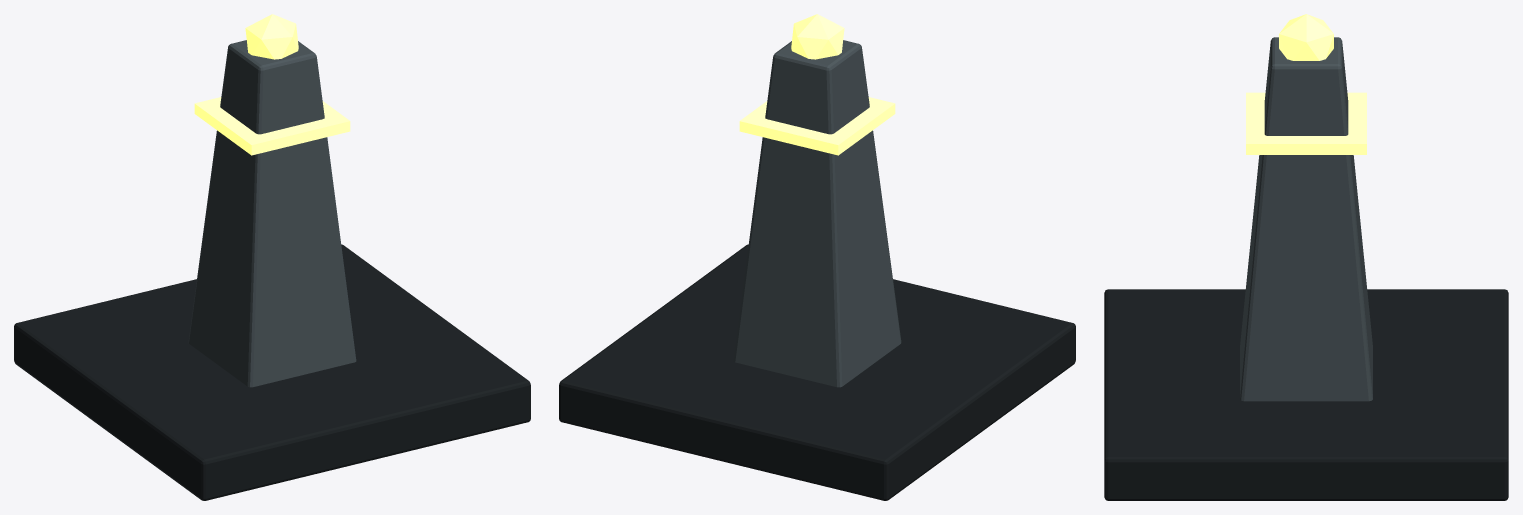
Rendered from prop_pylon.glb.
The picture shows the model from 3 angles, left to right: view 1: azimuth 30°, elevation 25°; view 2: azimuth 150°, elevation 25°; view 3: azimuth 270°, elevation 25°; orthographic projection. The views are drawn at different scales.
Visible parts, largest first — view 1: base, mast, band, beacon; view 2: base, mast, band, beacon; view 3: base, mast, band, beacon.
Boxes of the visible parts, x1,y1,x2,y2 form: base: [14, 244, 530, 500]; mast: [188, 40, 356, 387]; band: [194, 97, 350, 155]; beacon: [245, 14, 298, 59]; base: [559, 244, 1075, 500]; mast: [733, 40, 901, 387]; band: [739, 97, 895, 155]; beacon: [791, 14, 844, 59]; base: [1104, 289, 1508, 500]; mast: [1240, 37, 1372, 401]; band: [1246, 92, 1366, 154]; beacon: [1279, 14, 1333, 60].
Bounding box in the file's own units: 1 × 1.1 × 1.
